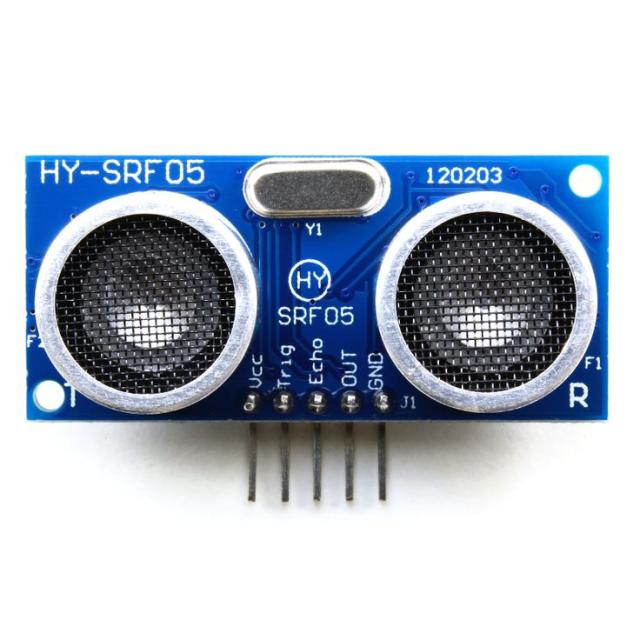Ultrasonic Sensor: (19, 149, 614, 503)
